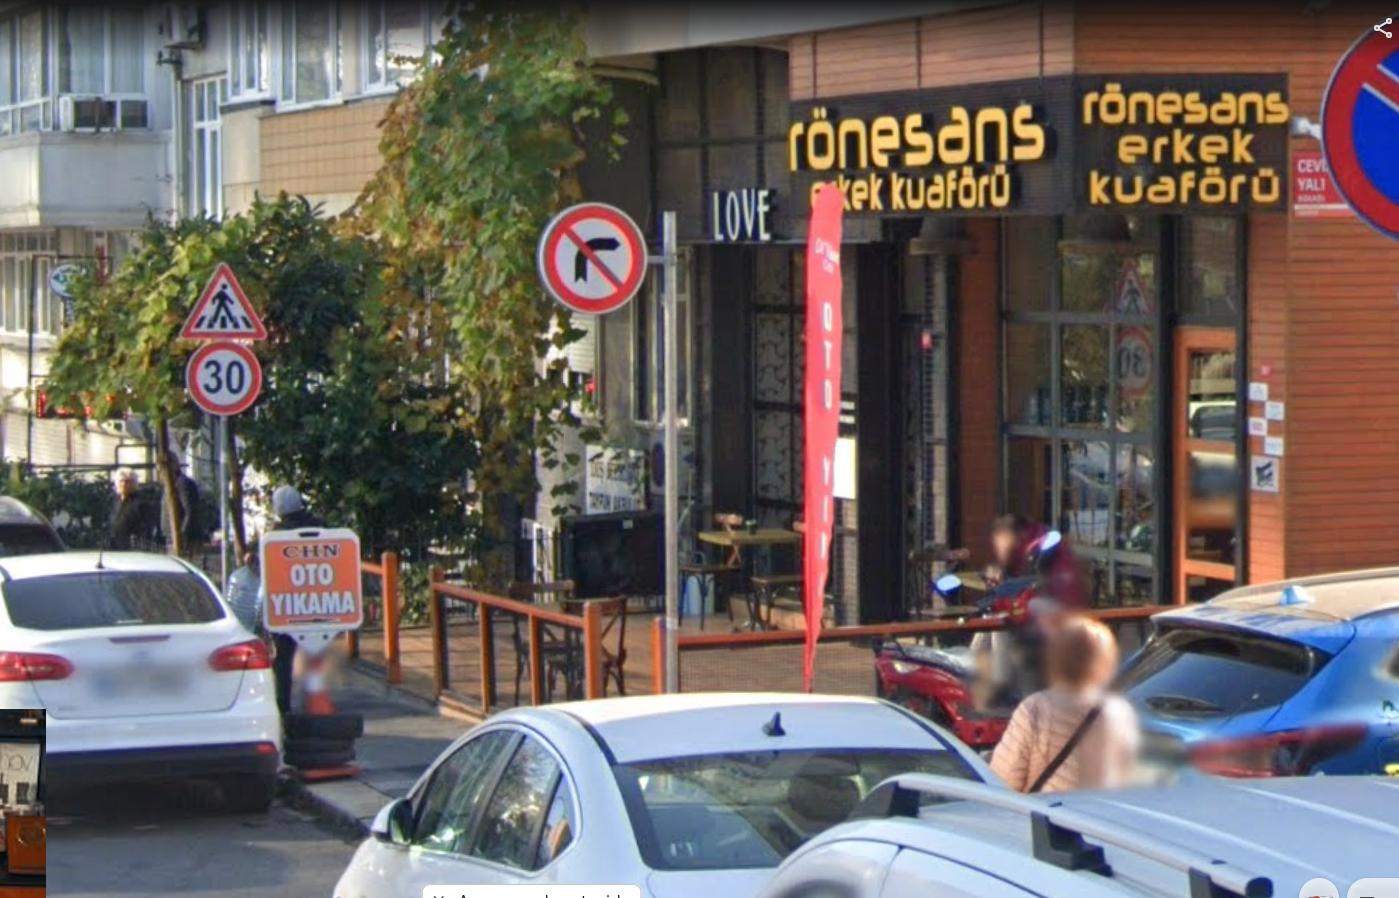nopark: (1325, 16, 1399, 230)
rightturnsareforbidden: (539, 206, 646, 314)
